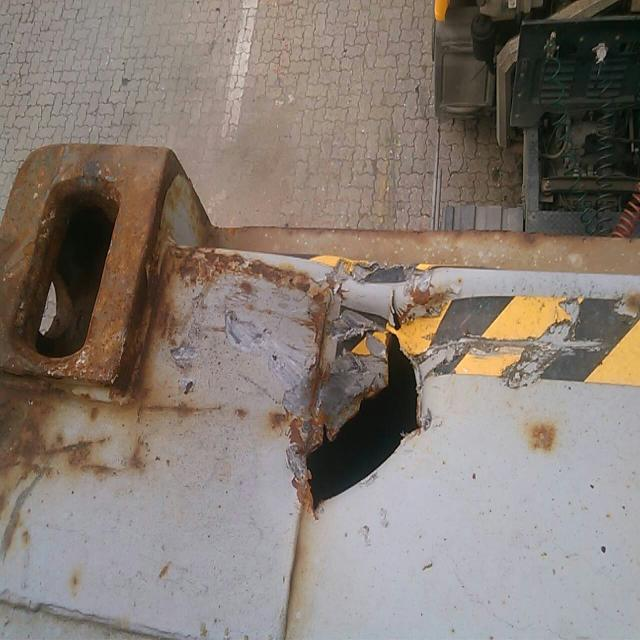hole: (278, 287, 445, 526)
